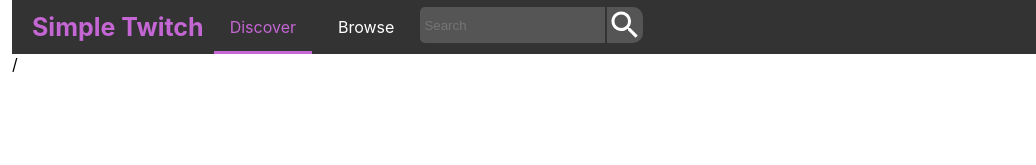
NavBarCont › closes the dropdown when clicking outside
This screenshot has width=1036, height=165.
Type "min" into the field with placeholder "Search" at point(513, 25), box [420,7,605,43]
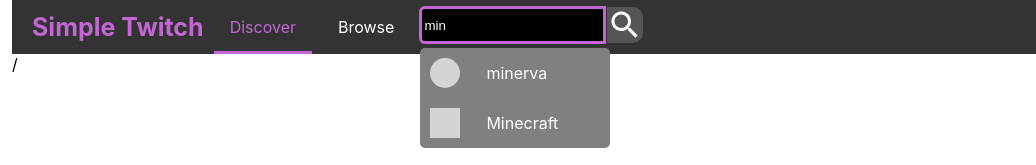
Now the link "minerva" is shown, box [486,63,547,83]
Press the mouse on the text "Simple Twitch" at point(113, 27), box [12,12,214,42]
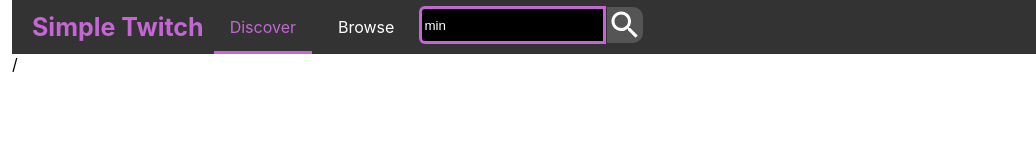
Now the link "minerva" is gone
